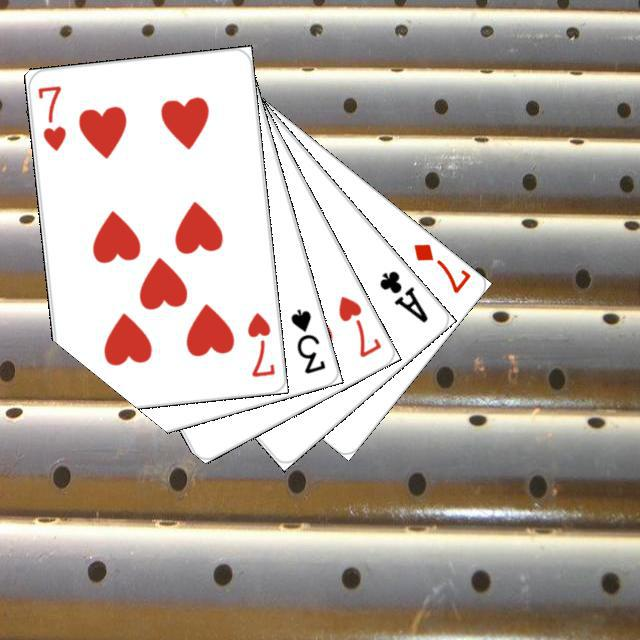3s: (285, 303, 327, 376)
7d: (408, 238, 472, 295)
7h: (333, 291, 384, 360), (33, 80, 68, 152), (242, 308, 277, 379)
Ac: (374, 265, 430, 325)
